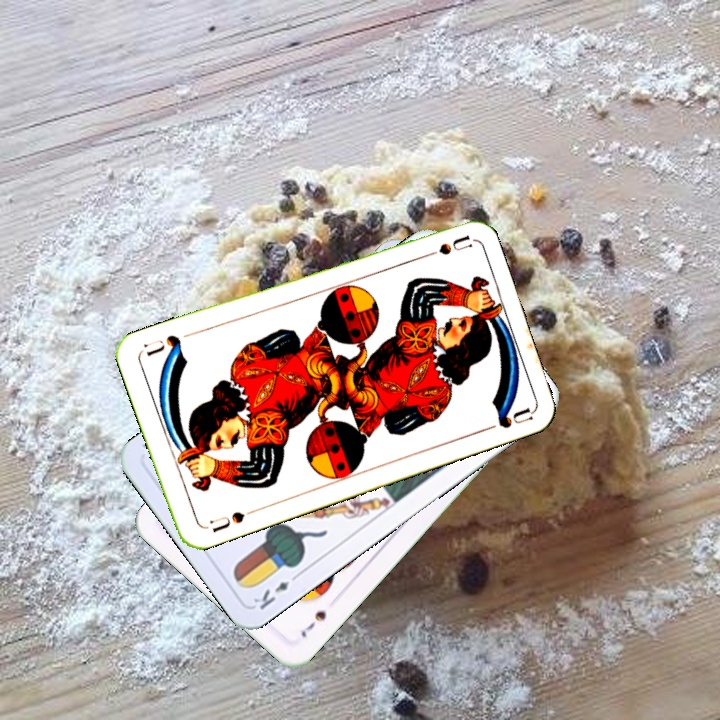EK: (249, 568, 303, 613)
S7: (296, 606, 329, 640)
SU: (414, 231, 473, 262), (201, 505, 259, 535)
